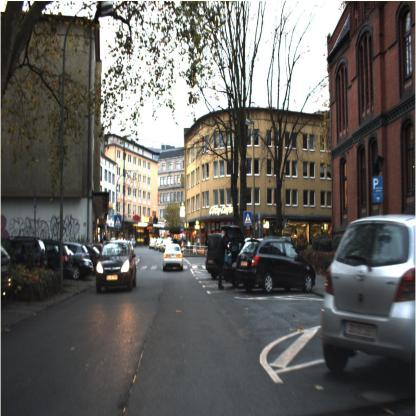mandatory: (241, 207, 254, 230), (112, 211, 124, 232)
